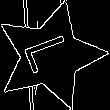L_E: (20, 32, 81, 79)
